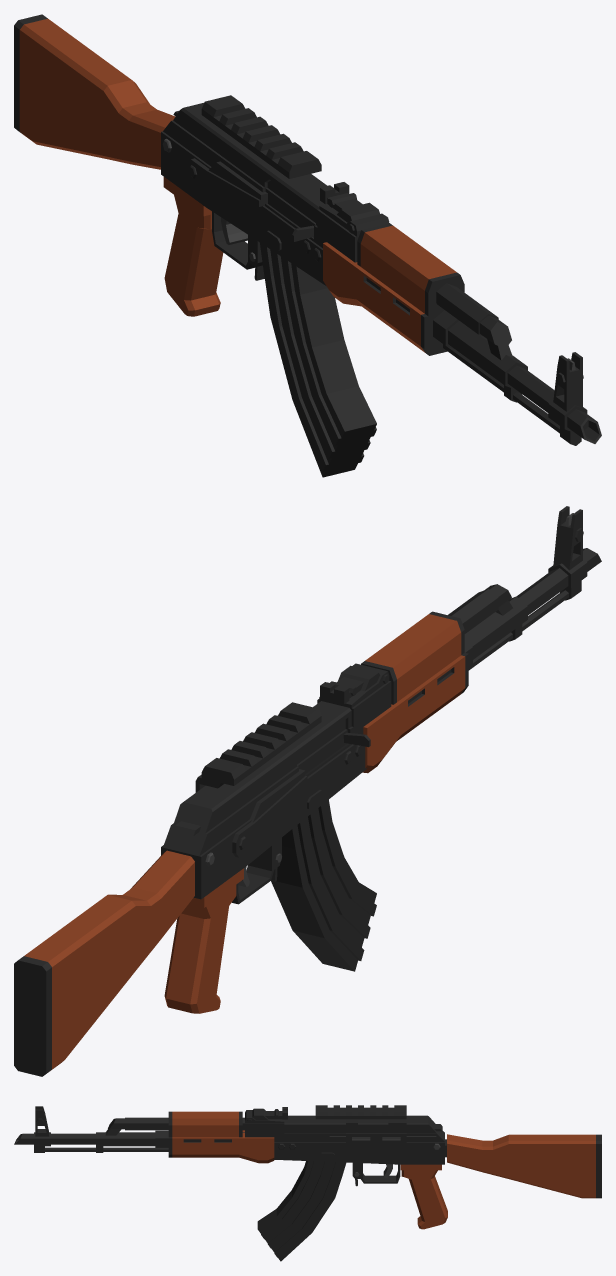
File: rifle.obj
The picture shows the model from 3 angles, top to bottom: view 1: azimuth 30°, elevation 25°; view 2: azimuth 150°, elevation 25°; view 3: azimuth 270°, elevation 25°; orthographic projection. The views are drawn at different scales.
Visible parts, largest first — view 1: AR_B_Receiver, AR_B_Stock, AR_B_Mag, AR_B_BarrelGuard, AR_B_Barrel, AR_B_Grip, AR_B_Rail; view 2: AR_B_Receiver, AR_B_Stock, AR_B_Mag, AR_B_BarrelGuard, AR_B_Barrel, AR_B_Grip, AR_B_Rail; view 3: AR_B_Receiver, AR_B_Stock, AR_B_Mag, AR_B_BarrelGuard, AR_B_Barrel, AR_B_Rail, AR_B_Grip.
Part boxes in pixels (x1,y1,x2,y2): AR_B_Receiver: (161, 103, 389, 285); AR_B_Stock: (14, 14, 175, 169); AR_B_Mag: (260, 243, 376, 477); AR_B_BarrelGuard: (323, 223, 464, 355); AR_B_Barrel: (433, 283, 601, 445); AR_B_Grip: (163, 177, 223, 316); AR_B_Rail: (201, 95, 321, 178); AR_B_Receiver: (161, 663, 391, 904); AR_B_Stock: (14, 850, 194, 1076); AR_B_Mag: (271, 799, 376, 971); AR_B_BarrelGuard: (361, 611, 468, 773); AR_B_Barrel: (448, 506, 601, 670); AR_B_Grip: (164, 868, 243, 1013); AR_B_Rail: (195, 702, 321, 792); AR_B_Receiver: (245, 1107, 446, 1186); AR_B_Stock: (447, 1134, 601, 1198); AR_B_Mag: (257, 1161, 346, 1261); AR_B_BarrelGuard: (168, 1111, 274, 1163); AR_B_Barrel: (14, 1106, 244, 1152); AR_B_Rail: (315, 1105, 406, 1143); AR_B_Grip: (400, 1164, 447, 1229).
Size of the model in its own units: 0.315 by 1.36 by 4.85.
1 material, 1 textured.
